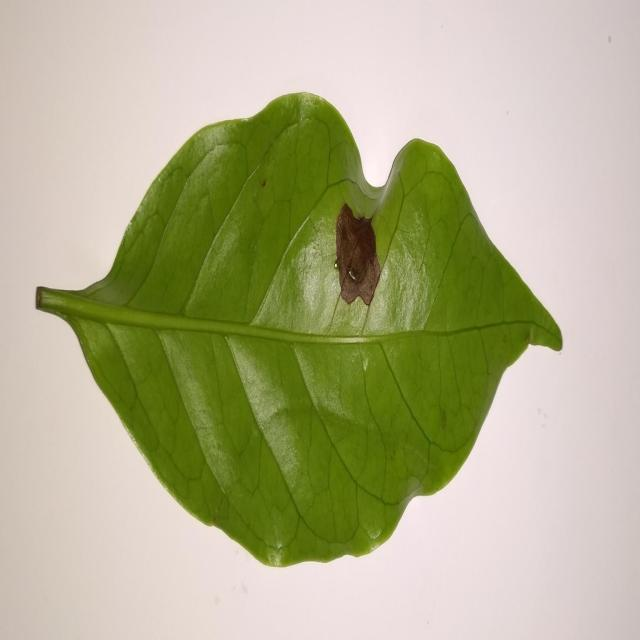Enfermedad-Antracnosis: (33, 93, 564, 571)
